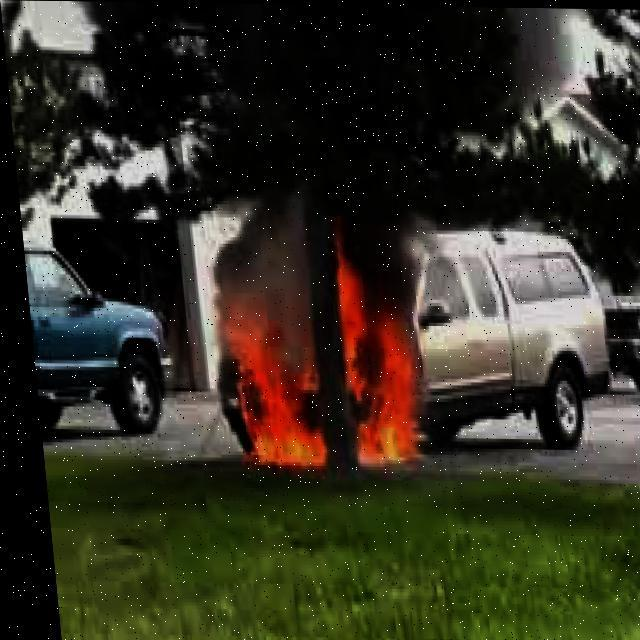Fire: (198, 204, 432, 483)
